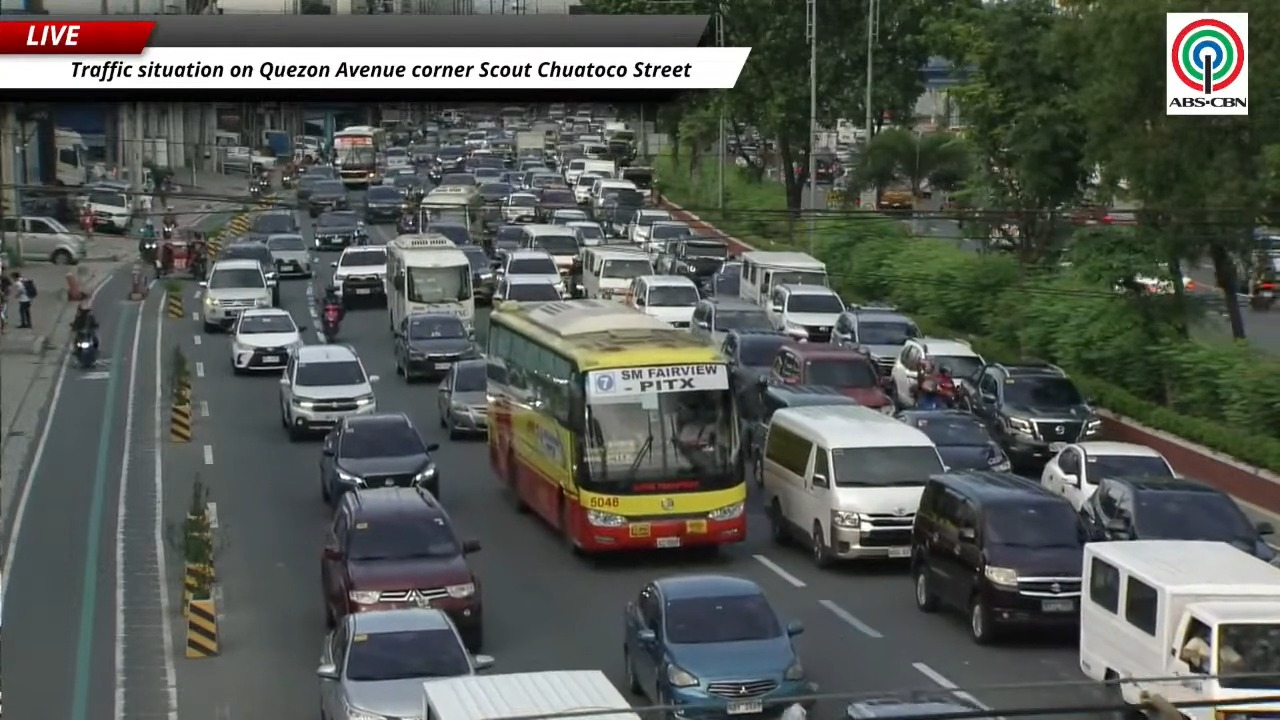bus: (486, 299, 746, 553), (384, 232, 474, 330), (332, 127, 384, 186)
car: (911, 471, 1088, 643), (623, 574, 816, 715), (321, 487, 482, 651), (317, 607, 493, 719), (1080, 476, 1277, 561), (962, 361, 1101, 470), (740, 385, 856, 485), (320, 413, 438, 505), (279, 344, 377, 440), (1041, 441, 1175, 509), (770, 342, 895, 413), (897, 409, 1010, 471), (890, 337, 984, 405), (720, 330, 789, 419), (831, 306, 921, 374), (394, 312, 476, 381), (200, 260, 272, 331), (230, 308, 304, 373), (767, 284, 844, 342), (218, 238, 279, 305), (437, 359, 487, 438), (690, 297, 772, 345), (844, 692, 983, 719), (659, 234, 728, 286), (331, 246, 387, 307), (497, 248, 562, 295), (313, 209, 366, 249), (642, 221, 693, 262), (459, 245, 495, 302), (266, 233, 312, 277), (493, 275, 562, 304), (363, 184, 407, 224), (246, 210, 300, 240), (626, 209, 672, 244), (307, 179, 347, 217), (700, 261, 741, 296), (490, 224, 523, 267), (294, 167, 332, 202), (428, 220, 473, 246), (389, 174, 427, 204), (566, 220, 604, 246), (478, 177, 513, 205), (547, 208, 589, 225), (472, 166, 501, 185), (438, 173, 477, 186)
motorcycle: (914, 375, 957, 409), (73, 330, 96, 368), (321, 303, 342, 343), (1249, 282, 1279, 310), (914, 392, 951, 410), (140, 238, 158, 264), (397, 213, 418, 233), (249, 181, 264, 200), (162, 222, 175, 239)
truck: (1079, 540, 1279, 719), (421, 670, 639, 719), (15, 121, 88, 186), (515, 130, 543, 153)
